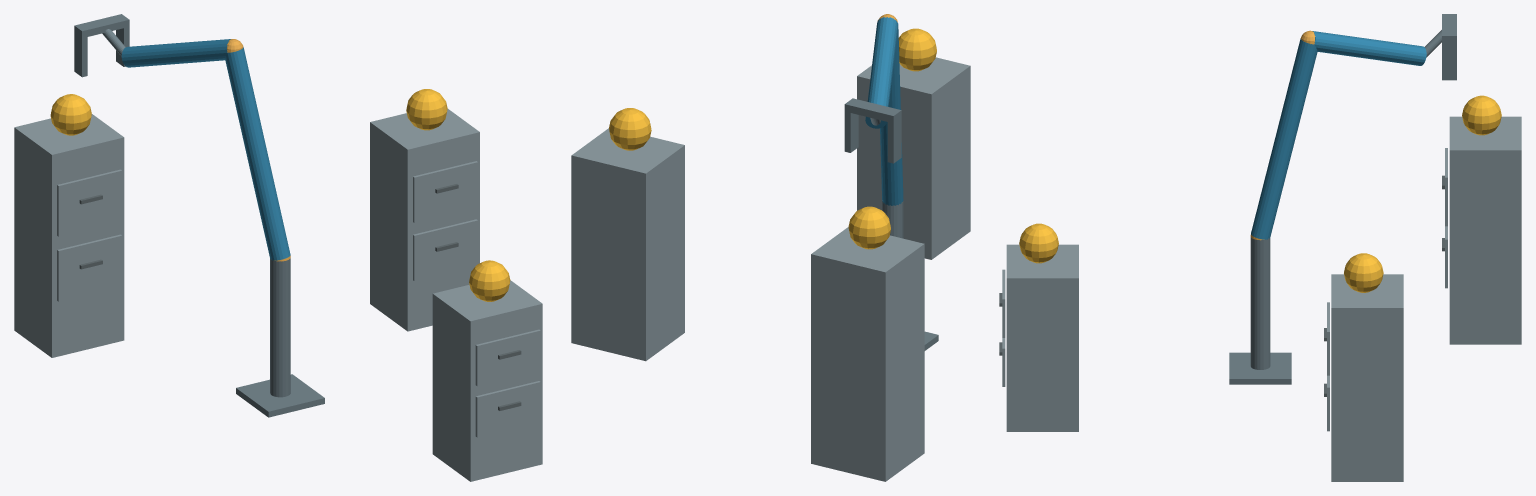
The picture shows the model from 3 angles, left to right: view 1: azimuth 30°, elevation 25°; view 2: azimuth 150°, elevation 25°; view 3: azimuth 270°, elevation 25°; orthographic projection. The views are drawn at different scales.
Visible parts, largest first — view 1: cabinet_3 body, cabinet_1 body, cabinet_2 body, moving link 1, cabinet_3 drawer front, cabinet_3 drawer front.001, cabinet_2 drawer front.001, cabinet_2 drawer front, fixed post, cabinet_1 drawer front, cabinet_1 drawer front.001, moving link 2 (+6 smaller); view 2: cabinet_3 body, cabinet_2 body, cabinet_1 body, moving link 2, moving link 1, ball ball_3, released ball_2, released ball_1, gripper bridge, gripper finger -1, gripper finger 1, fixed post; view 3: cabinet_3 body, cabinet_2 body, cabinet_1 body, moving link 1, fixed post, moving link 2, pedestal, released ball_1, ball ball_3, released ball_2, gripper finger 1.
Part boxes in pixels (box(x1,y1,x2,y2)): cabinet_3 body: box(14, 114, 124, 357); cabinet_1 body: box(432, 280, 542, 481); cabinet_2 body: box(370, 109, 479, 331); moving link 1: box(225, 47, 290, 260); cabinet_3 drawer front: box(57, 234, 122, 301); cabinet_3 drawer front.001: box(57, 169, 122, 236); cabinet_2 drawer front.001: box(413, 161, 477, 222); cabinet_2 drawer front: box(413, 219, 477, 281); fixed post: box(270, 258, 290, 397); cabinet_1 drawer front: box(475, 381, 540, 437); cabinet_1 drawer front.001: box(475, 329, 540, 386); moving link 2: box(121, 39, 230, 67); cabinet_3 body: box(811, 227, 924, 481); cabinet_2 body: box(571, 128, 684, 361); cabinet_1 body: box(857, 57, 970, 259); moving link 2: box(865, 17, 898, 128); moving link 1: box(880, 23, 903, 205); ball ball_3: box(848, 206, 890, 249); released ball_2: box(609, 108, 651, 150); released ball_1: box(898, 28, 936, 71); gripper bridge: box(844, 98, 901, 123); gripper finger -1: box(887, 118, 901, 163); gripper finger 1: box(844, 111, 858, 152); fixed post: box(882, 200, 903, 238); cabinet_3 body: box(1449, 116, 1521, 344); cabinet_2 body: box(1331, 274, 1403, 481); cabinet_1 body: box(1006, 244, 1078, 431); moving link 1: box(1251, 39, 1317, 239); fixed post: box(1250, 237, 1270, 369); moving link 2: box(1312, 31, 1426, 65); pedestal: box(1229, 352, 1291, 384); released ball_1: box(1019, 223, 1058, 263); ball ball_3: box(1462, 95, 1501, 135); released ball_2: box(1344, 253, 1383, 292); gripper finger 1: box(1442, 43, 1456, 80).
Size of the model in its own units: 1.62 by 1.46 by 2.1.
